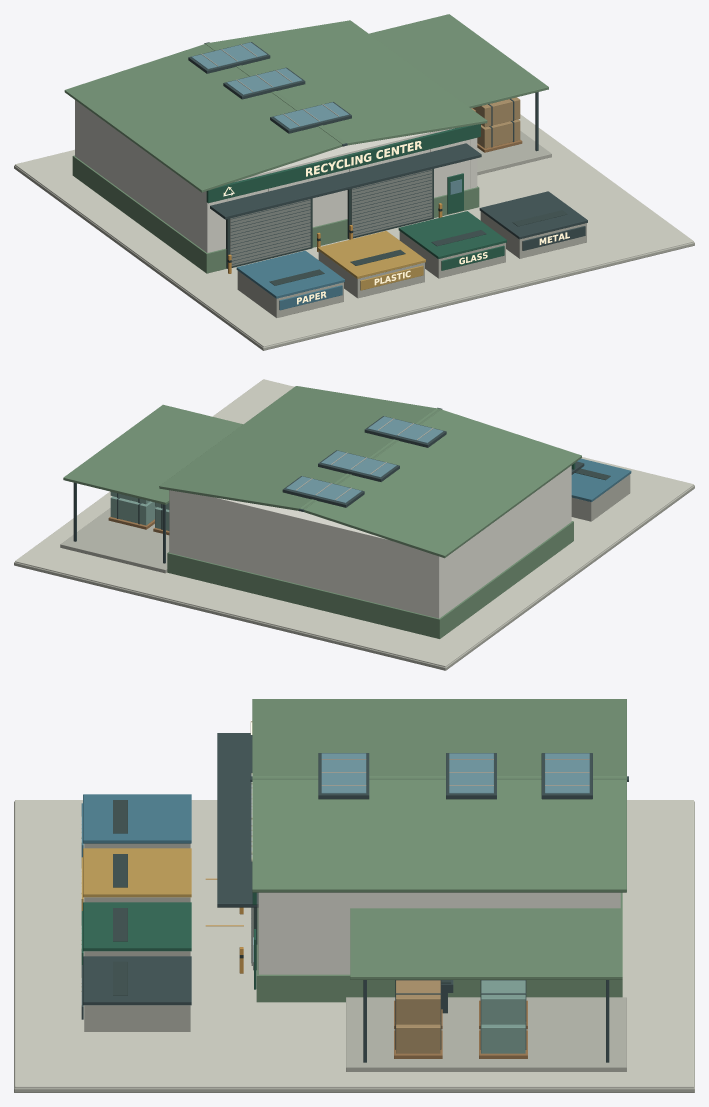
File: waste-recycling-center.glb
3 renders of one model, top to bottom at view 1: azimuth 30°, elevation 25°; view 2: azimuth 150°, elevation 25°; view 3: azimuth 270°, elevation 25°, orthographic. The views are drawn at different scales.
Visible parts, largest first — view 1: Ground, LowPitchedRoof, LowPitchedRoof.001, SortingHall, DispatchCanopy, WideReceivingCanopy, GreenBase, LoadingShutter.001, LoadingShutter, BrandBand, Lot, BinLid (+18 smaller); view 2: SortingHall, Ground, LowPitchedRoof, LowPitchedRoof.001, GreenBase, DispatchCanopy, BaleDispatchPad, Lot, BinLid, SortingBunker, RooflightGlass, RooflightGlass.001 (+5 smaller); view 3: Ground, LowPitchedRoof.001, LowPitchedRoof, DispatchCanopy, BaleDispatchPad, SortingHall, WideReceivingCanopy, GreenBase, BinLid, BinLid.001, BinLid.002, BinLid.003 (+15 smaller).
Boxes of the visible parts, x1,y1,x2,y2 form: Ground: [15, 114, 693, 347]; LowPitchedRoof: [64, 42, 346, 192]; LowPitchedRoof.001: [205, 20, 487, 145]; SortingHall: [75, 100, 477, 252]; DispatchCanopy: [369, 14, 548, 108]; WideReceivingCanopy: [210, 143, 481, 219]; GreenBase: [72, 155, 479, 273]; LoadingShutter.001: [351, 169, 432, 236]; LoadingShutter: [230, 199, 310, 266]; BrandBand: [206, 124, 480, 203]; Lot: [14, 165, 694, 350]; BinLid: [236, 250, 344, 298]; SortingHall: [169, 465, 571, 618]; Ground: [15, 379, 693, 667]; LowPitchedRoof: [300, 408, 581, 558]; LowPitchedRoof.001: [159, 386, 441, 510]; GreenBase: [167, 521, 573, 638]; DispatchCanopy: [63, 404, 242, 504]; BaleDispatchPad: [60, 508, 169, 573]; Lot: [14, 485, 694, 670]; BinLid: [571, 458, 631, 501]; SortingBunker: [571, 474, 630, 521]; RooflightGlass: [368, 416, 443, 443]; RooflightGlass.001: [321, 450, 396, 477]; Ground: [15, 800, 693, 1088]; LowPitchedRoof.001: [252, 776, 626, 892]; LowPitchedRoof: [252, 699, 626, 779]; DispatchCanopy: [350, 908, 622, 979]; BaleDispatchPad: [346, 997, 626, 1071]; SortingHall: [258, 892, 620, 974]; WideReceivingCanopy: [217, 733, 258, 907]; GreenBase: [256, 892, 622, 1002]; BinLid: [83, 794, 191, 843]; BinLid.001: [83, 848, 191, 897]; BinLid.002: [83, 902, 191, 951]; BinLid.003: [83, 956, 191, 1005].
Size of the model in its own units: 32 by 7.56 by 32.
